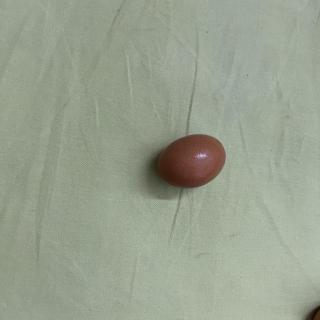Telur: (155, 133, 229, 191)
